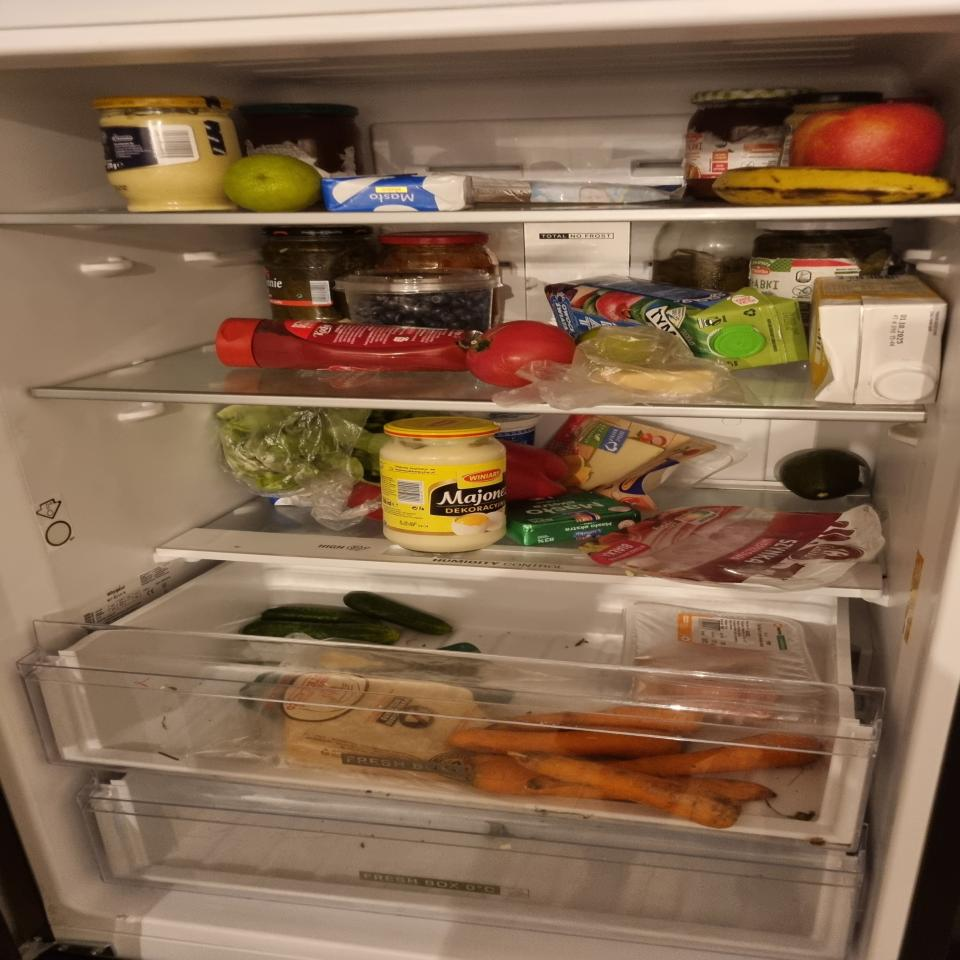Aguacate: (777, 448, 872, 500)
Carne pollo: (626, 606, 822, 706)
Leche: (812, 275, 946, 406)
Lechuga/Endivia: (218, 404, 377, 492)
Mantequilla: (511, 491, 636, 544), (320, 171, 476, 212)
Manzana: (790, 108, 943, 173)
Pepino: (245, 591, 454, 645)
Plátano: (704, 168, 950, 206)
Queso: (283, 672, 490, 783), (544, 414, 718, 503)
Tomate: (474, 322, 573, 385)
Zanahoria: (453, 702, 831, 827)
